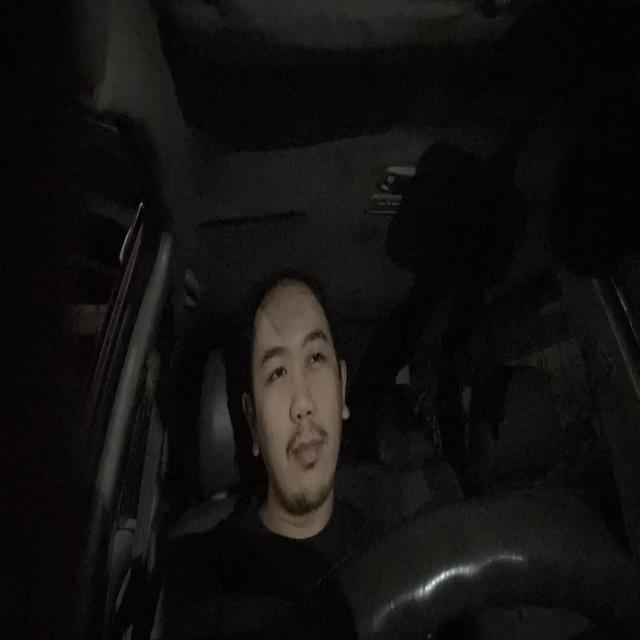open: (298, 322, 330, 375), (259, 341, 290, 392)
